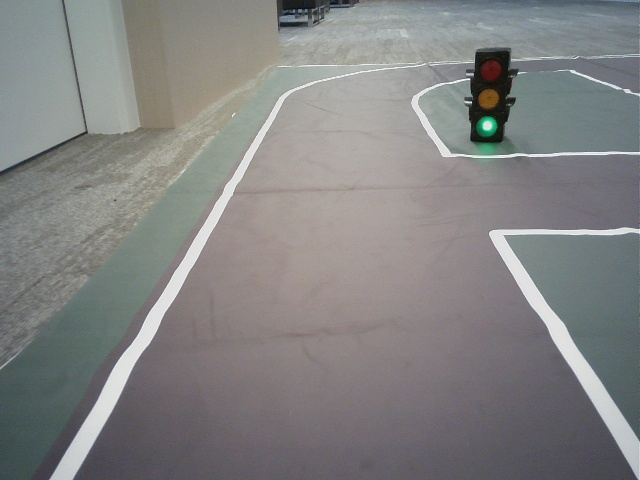green: (471, 52, 505, 138)
